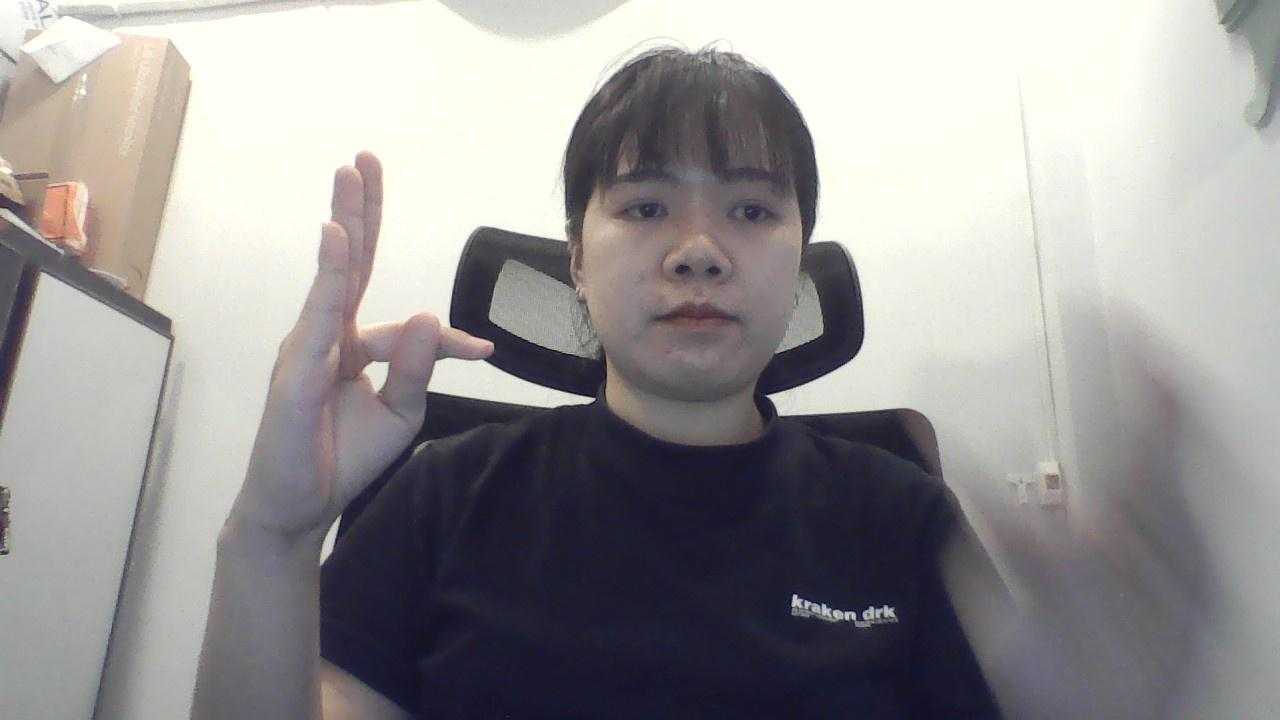T: (220, 146, 501, 570)
